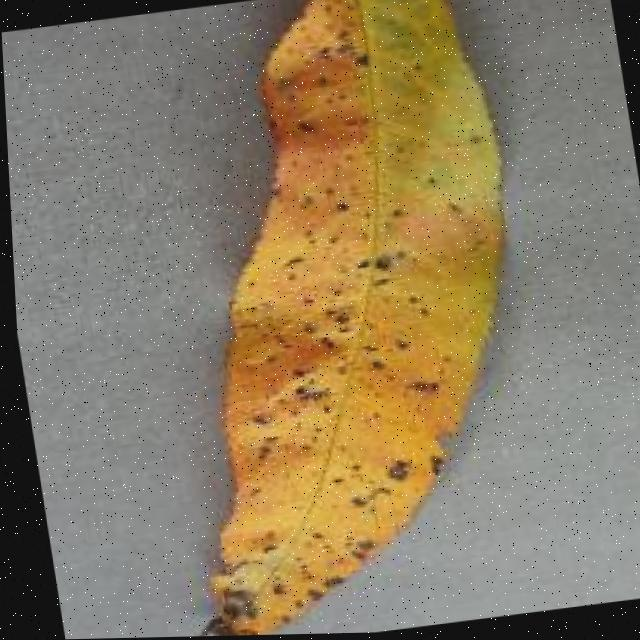Bacterial_spot: (81, 0, 574, 638)
